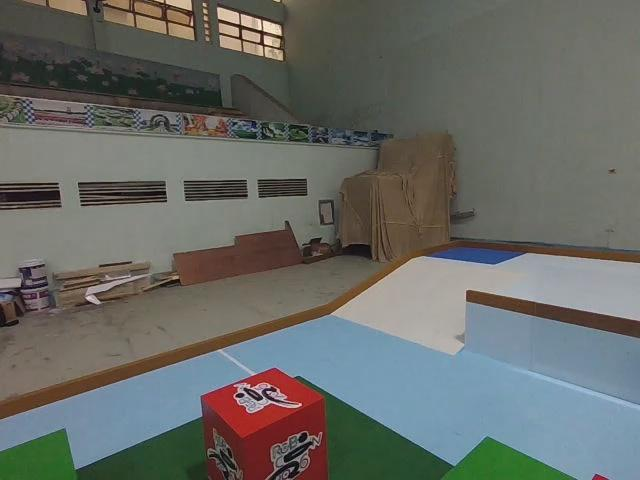R1: (199, 365, 326, 480)
